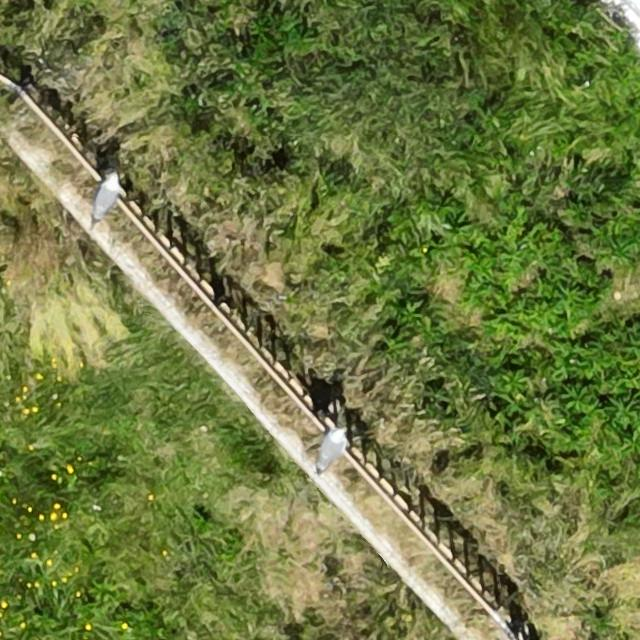umineko: (318, 430, 346, 469), (93, 178, 117, 216)
